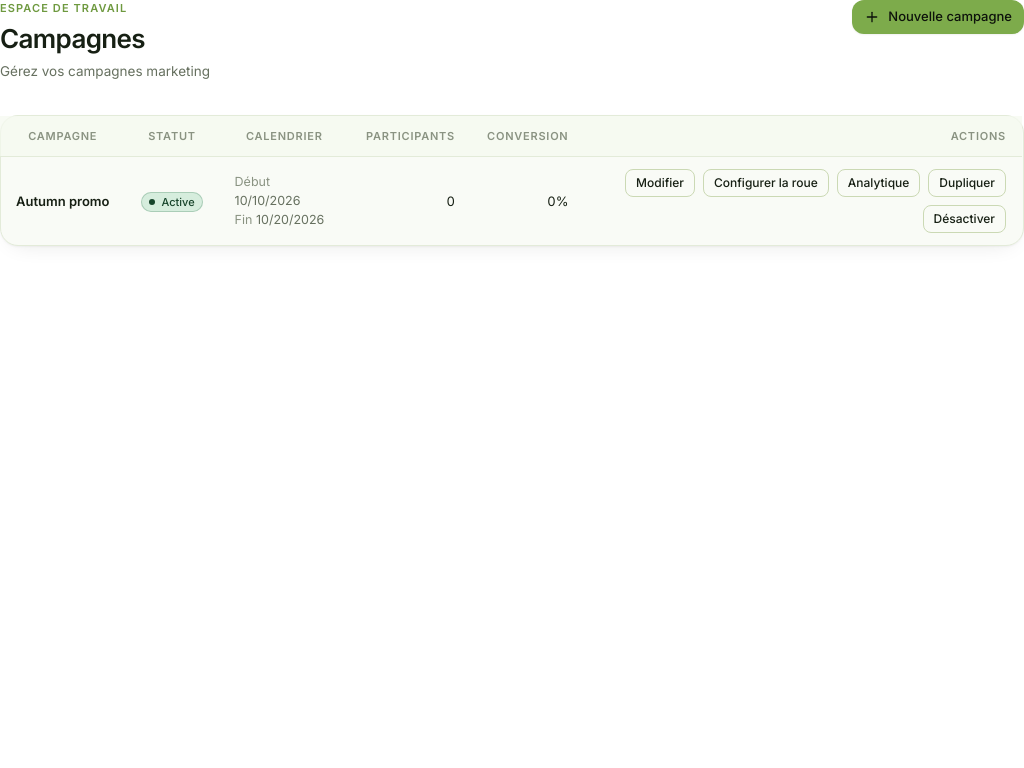
Test: campaign management page › edits campaign dates and switches an active campaign to paused
The width and height of the screenshot is (1024, 768).
Step 1. Click the button "Modifier" → coordinates (660, 183), box [625, 169, 695, 197]
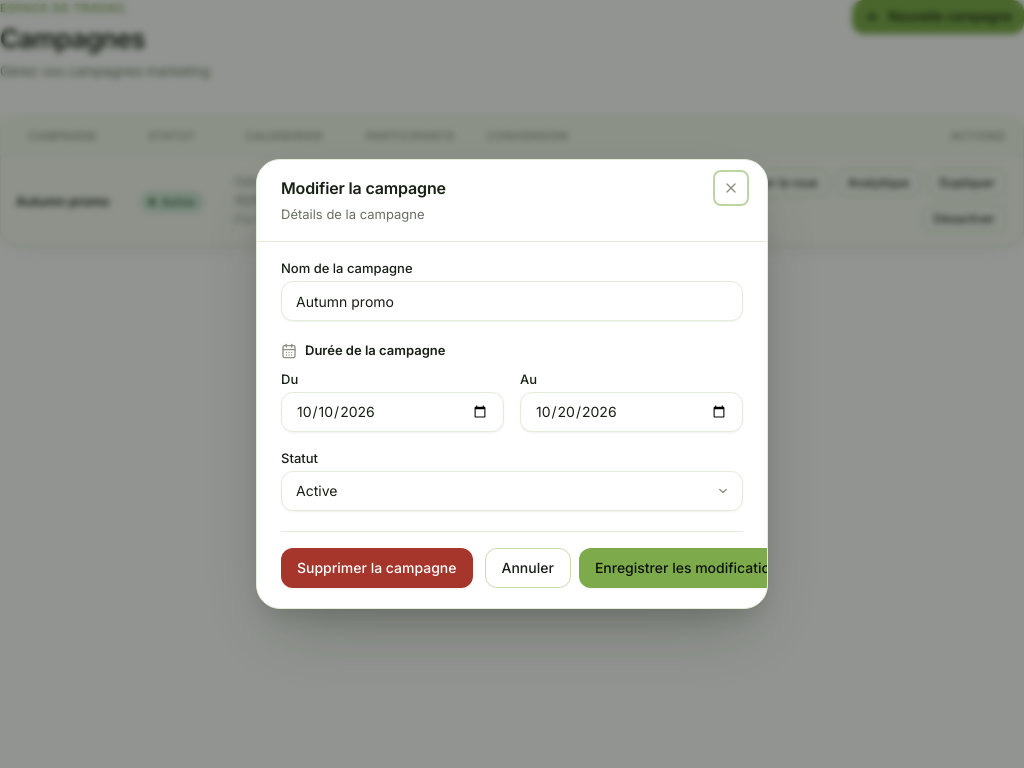
Step 2. Type "2026-11-01" into the date field labelled "Du" → coordinates (392, 412), box [281, 392, 504, 432]
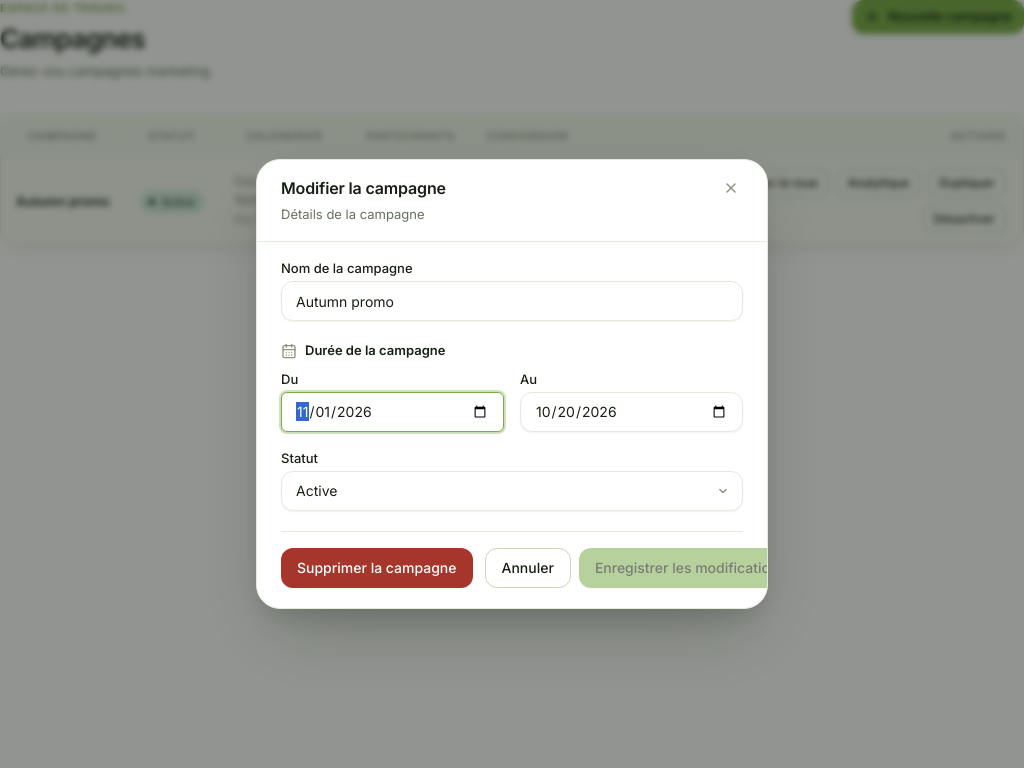
Step 3. Type "2026-11-30" into the date field labelled "Au" → coordinates (632, 412), box [520, 392, 743, 432]
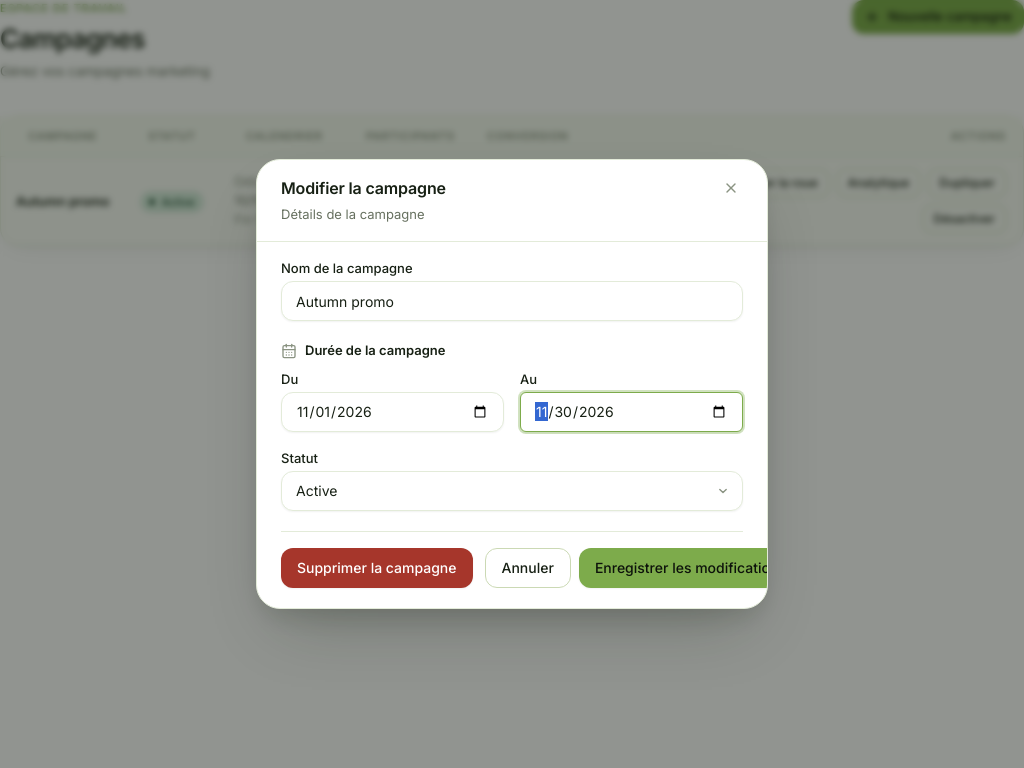
Step 4. Select "En pause" in the dropdown labelled "Statut" → coordinates (512, 491), box [281, 471, 743, 511]
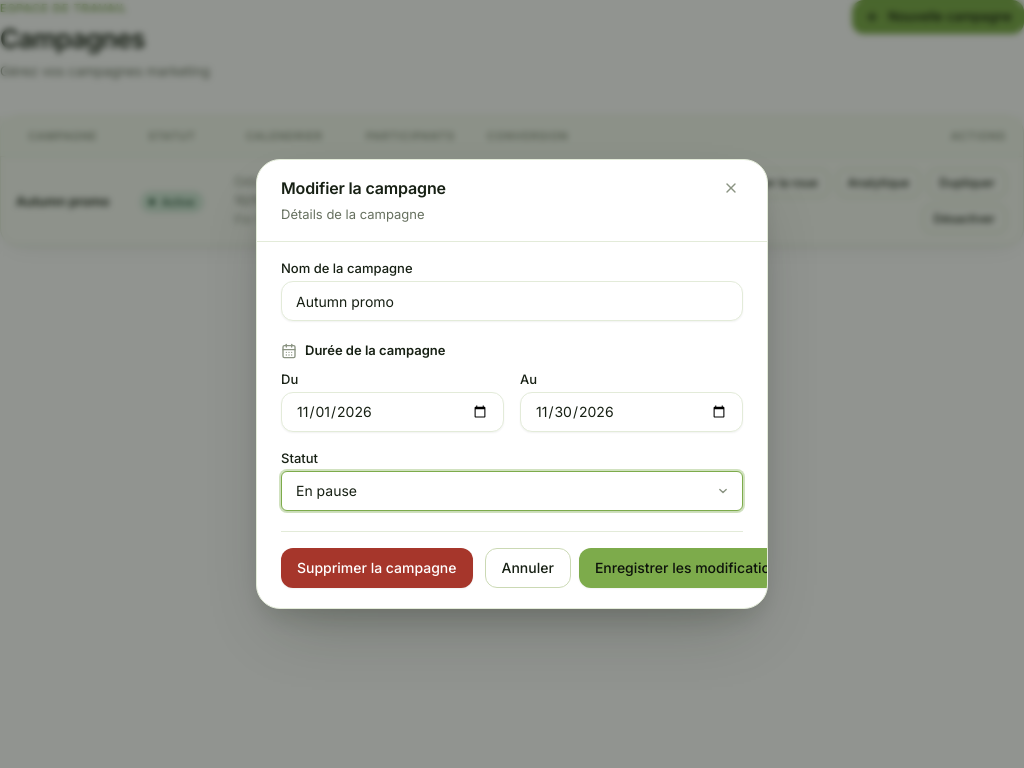
Step 5. Click the button "Enregistrer les modifications" → coordinates (690, 568), box [579, 548, 802, 588]
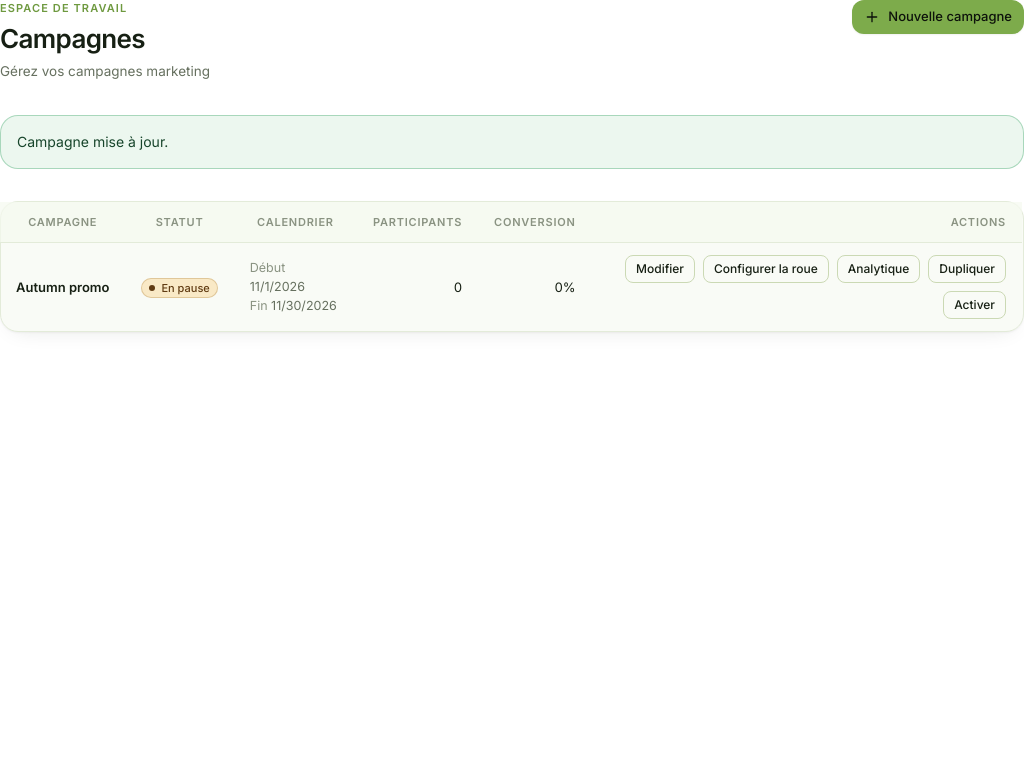
Expected: the text "Campagne mise à jour." is shown, [0, 115, 1023, 169]
